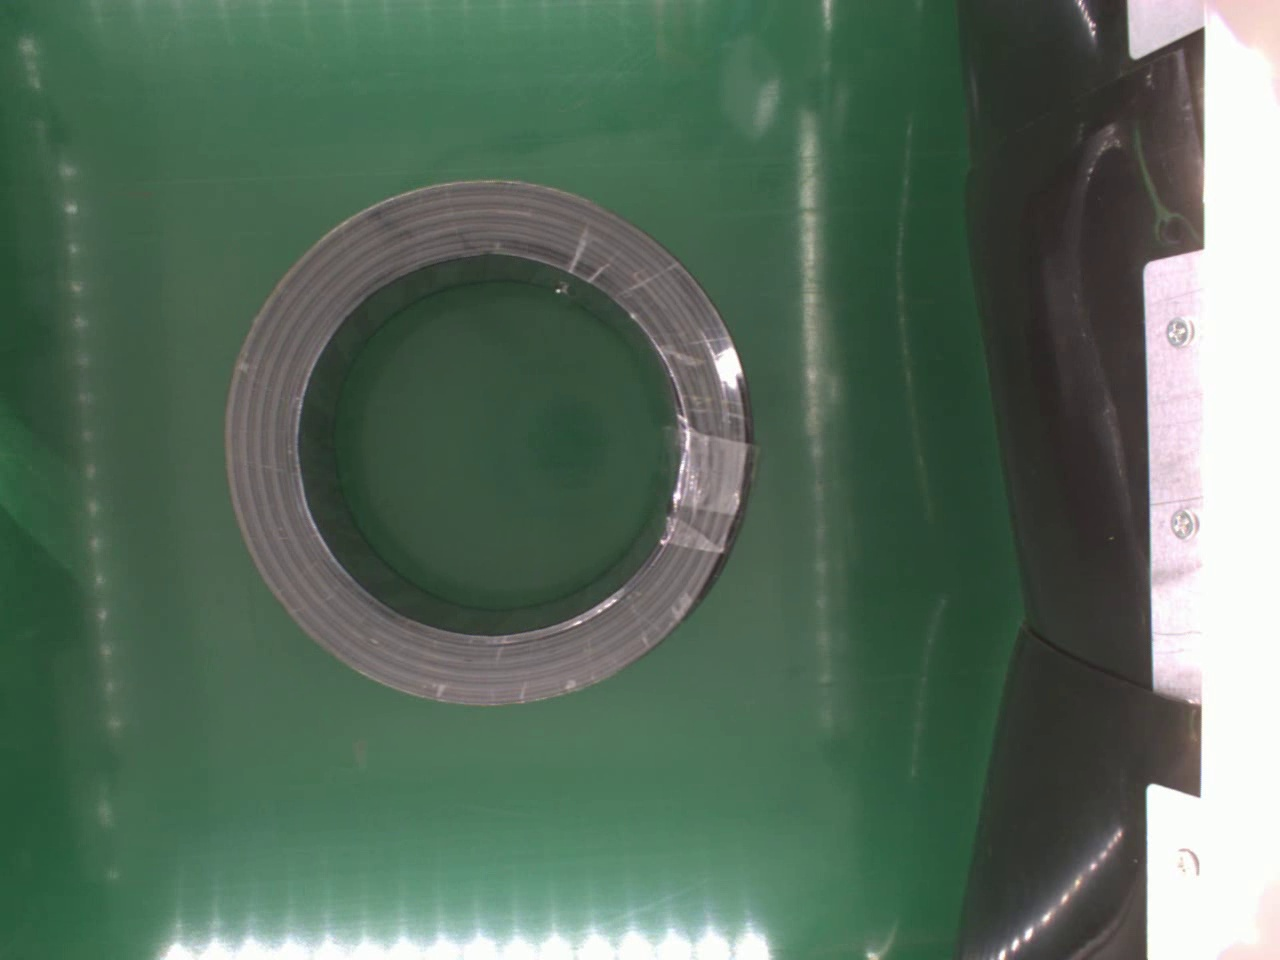black: (221, 173, 757, 711)
